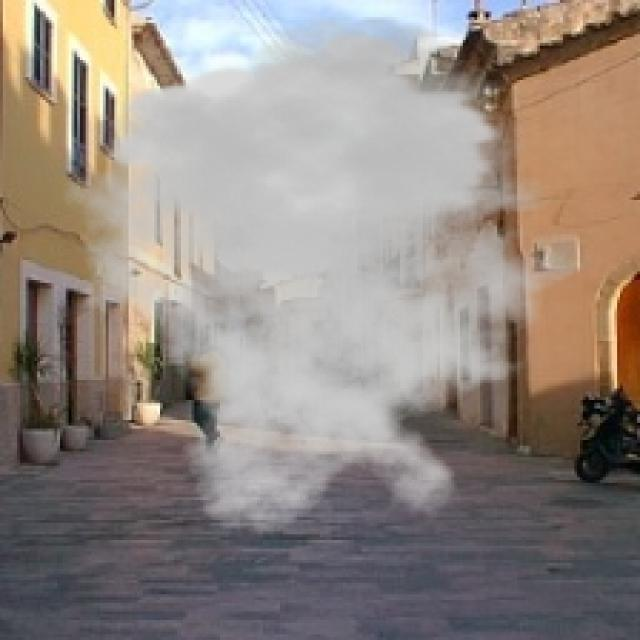Smoke: (54, 14, 606, 537)
